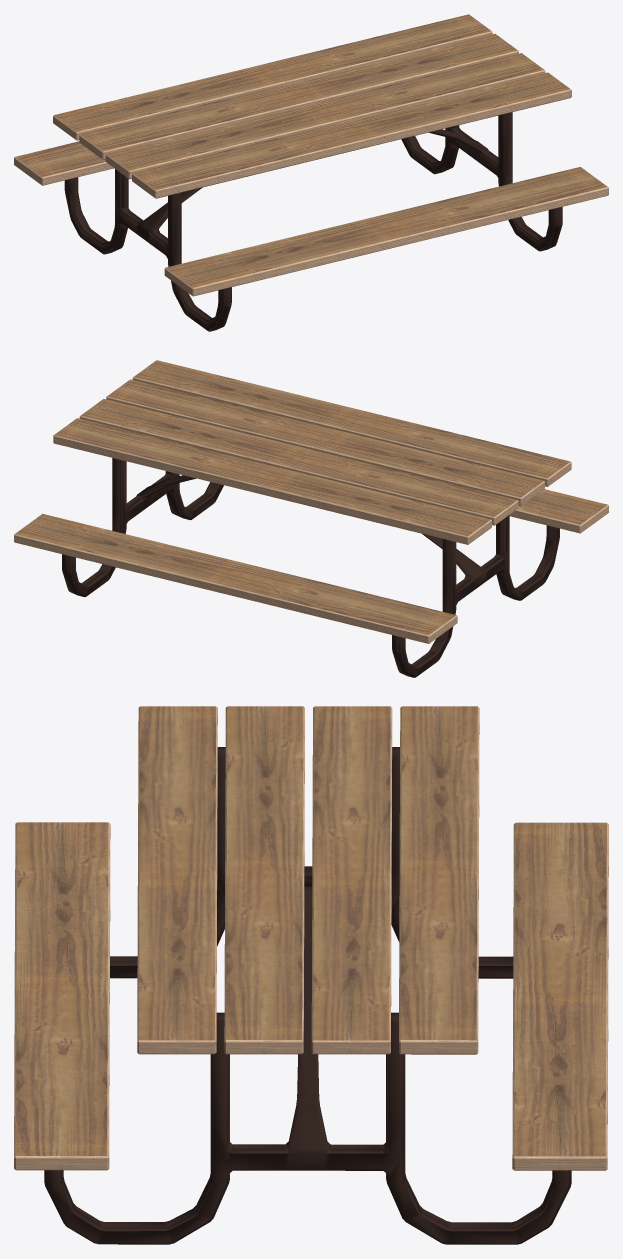
The model's file is Picnic_Table.obj.
3 views of the same model, one above another, from view 1: azimuth 30°, elevation 25°; view 2: azimuth 150°, elevation 25°; view 3: azimuth 270°, elevation 25° (orthographic). The views are drawn at different scales.
Visible parts, largest first — view 1: PicnicTable.007_Plane.002; view 2: PicnicTable.007_Plane.002; view 3: PicnicTable.007_Plane.002.
Boxes of the visible parts, <box> form: PicnicTable.007_Plane.002: <box>14,14,608,331</box>; PicnicTable.007_Plane.002: <box>14,360,608,677</box>; PicnicTable.007_Plane.002: <box>14,706,608,1244</box>.
Size of the model in its own units: 10.01 by 3.27 by 7.5.
